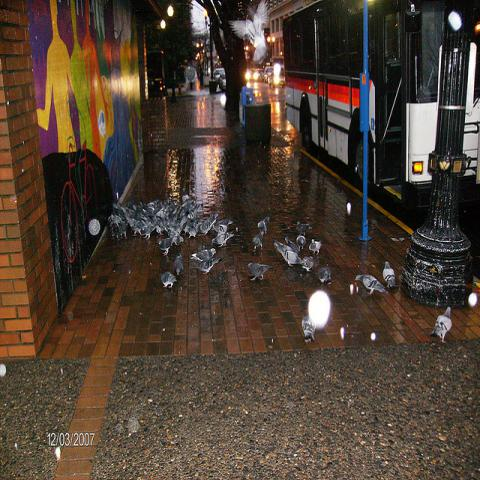bus: (281, 1, 479, 236)
car: (269, 72, 286, 88), (218, 73, 226, 91), (264, 66, 273, 82), (255, 70, 264, 82), (248, 73, 258, 80)
